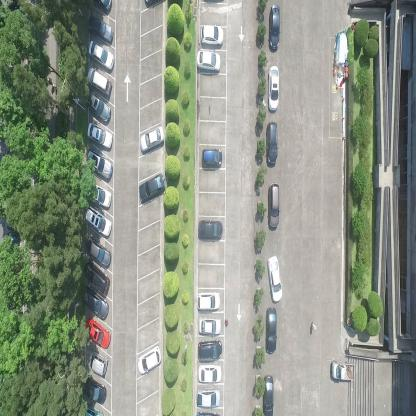car: (82, 259, 110, 297), (81, 285, 109, 321), (84, 232, 112, 268), (85, 147, 114, 181), (86, 87, 112, 124), (138, 172, 166, 205), (84, 205, 112, 238), (87, 12, 115, 45), (86, 39, 115, 70), (80, 374, 108, 406), (84, 317, 112, 349), (266, 254, 283, 303), (86, 65, 112, 97), (138, 342, 162, 376), (140, 123, 166, 153), (87, 120, 112, 150), (86, 180, 112, 208), (85, 349, 108, 378), (267, 182, 280, 232), (267, 64, 280, 112), (330, 358, 354, 384), (268, 4, 281, 51), (198, 219, 224, 242), (265, 306, 277, 354), (196, 49, 221, 72), (197, 339, 222, 361), (196, 363, 221, 385), (196, 386, 221, 408), (262, 373, 275, 415), (200, 146, 223, 169), (266, 122, 278, 166), (196, 290, 220, 312), (200, 24, 224, 46), (198, 315, 222, 336)
